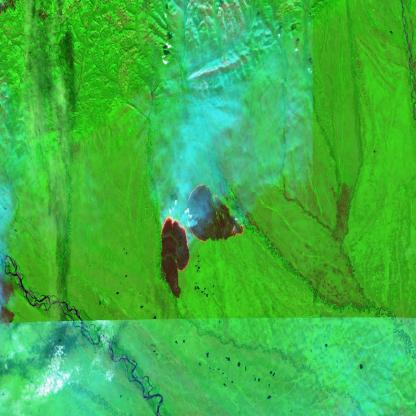fire: (154, 176, 245, 274)
